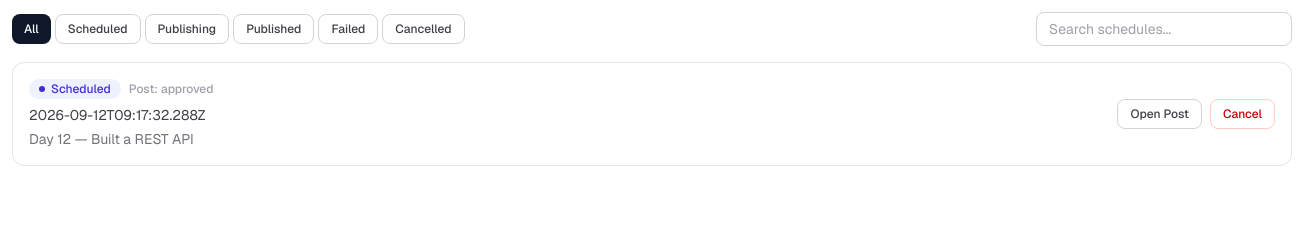
ScheduleList › shows an error when cancelling fails
What coordinates should you click on to do the following:
click the button "Cancel"
I would click on:
 (1242, 114)
Its box is [1210,99,1275,129].
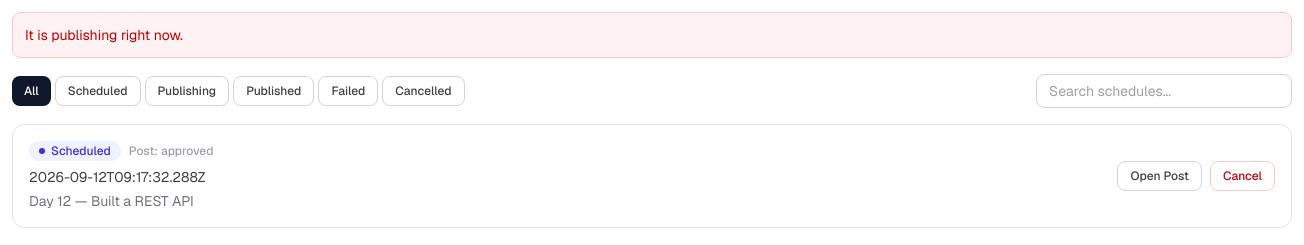
Check: the button "Scheduled" is shown, box [55,76,140,106]
Check: the text "It is publishing right now." is shown, box [25,26,183,44]
